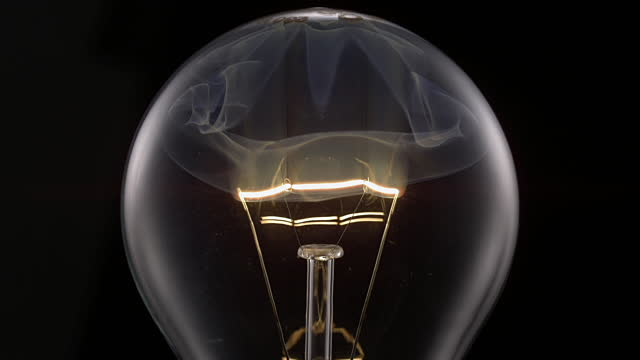Nonrec_Glass: (102, 11, 522, 353)
